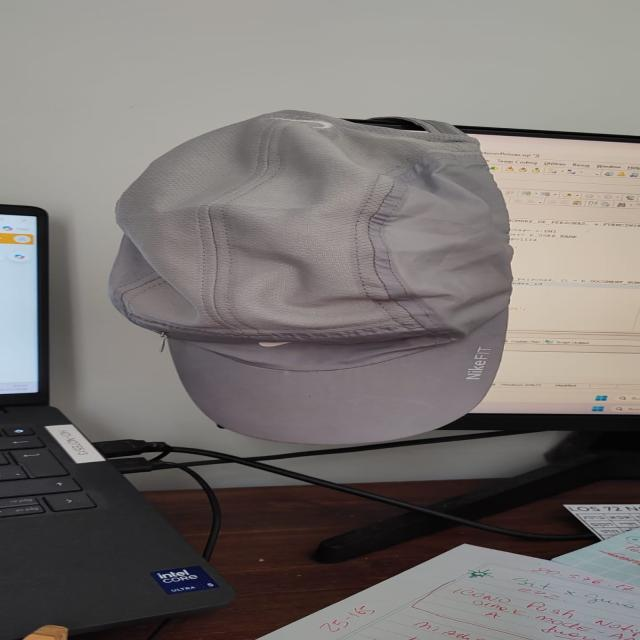Gorra: (96, 105, 527, 458)
